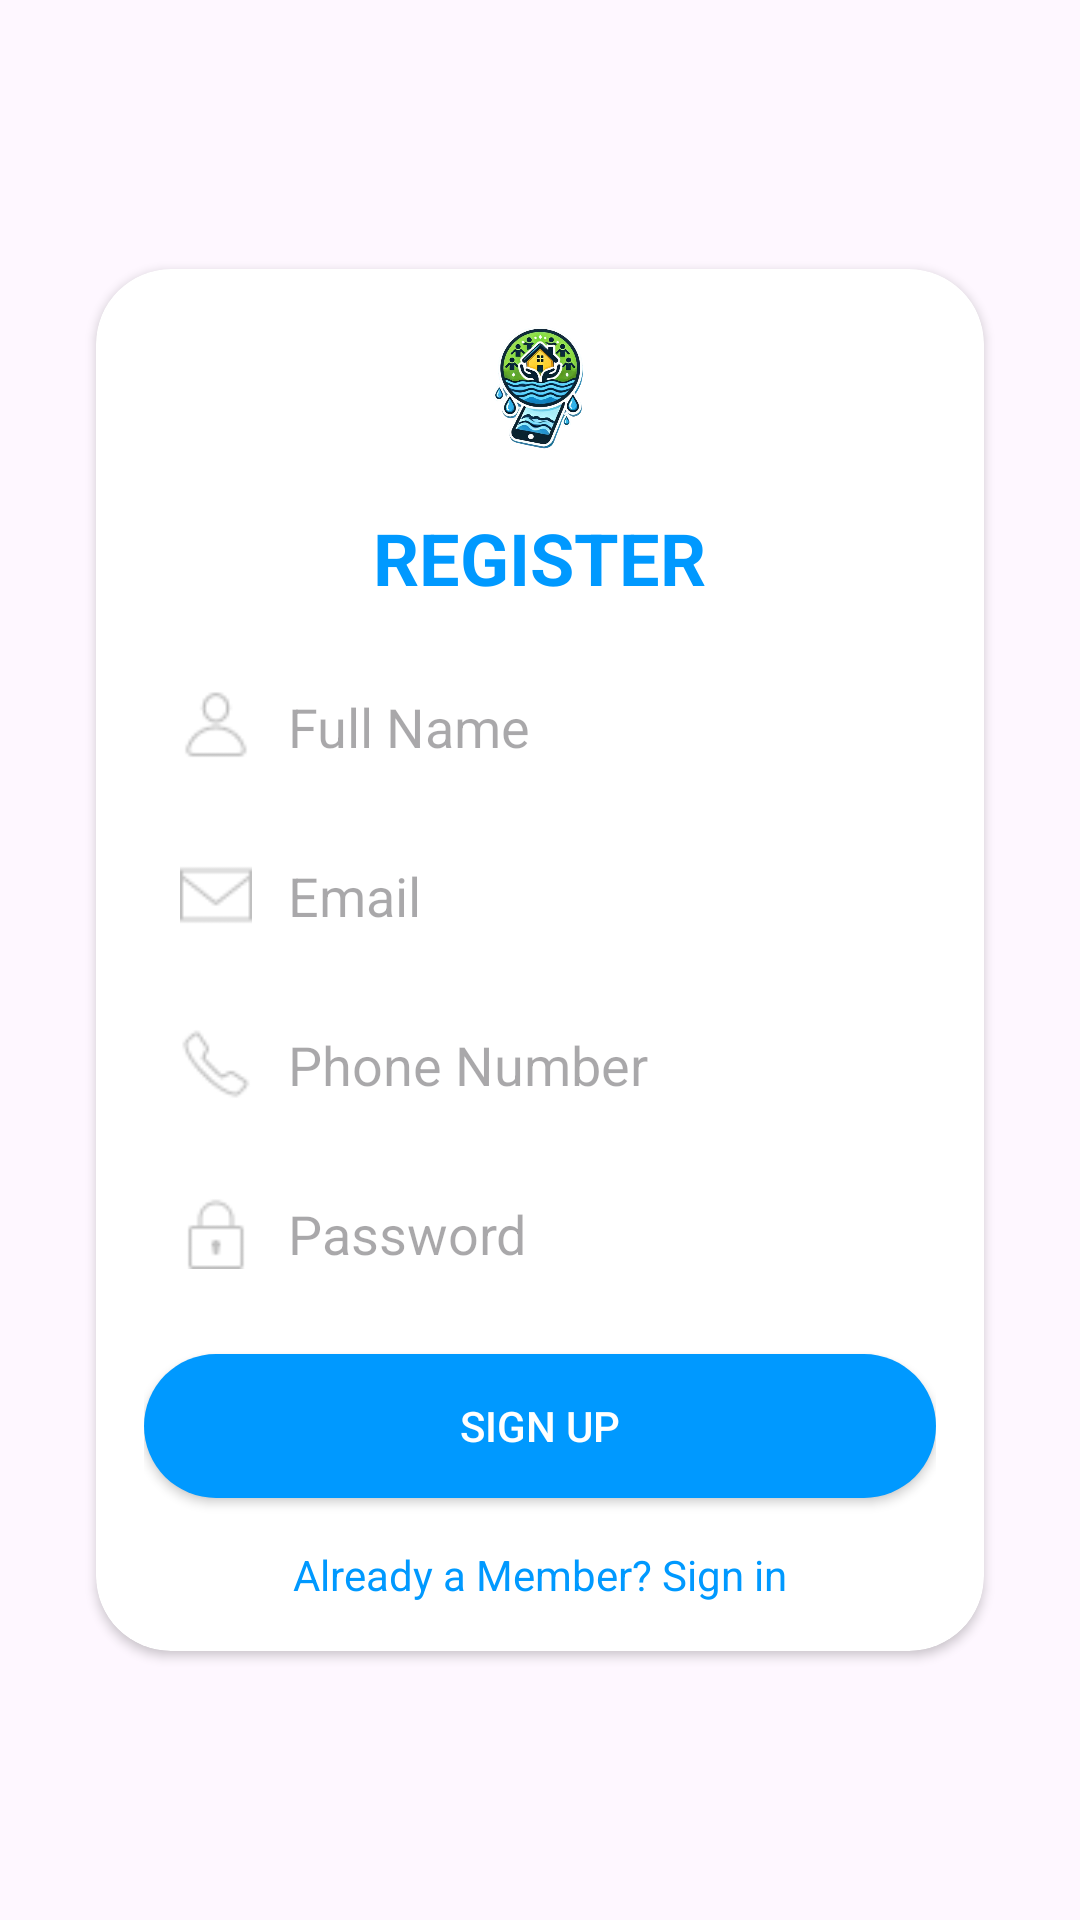

Icon click points for this 1080px×1920px phone screenshot, format [x,y]:
flood: [539,389]
lock: [216,1235]
user: [216,725]
